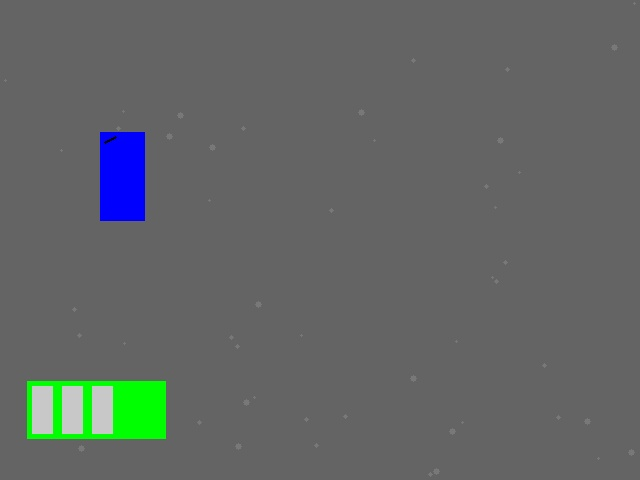bus: (27, 381, 165, 438)
motorcycle: (100, 132, 144, 220)
